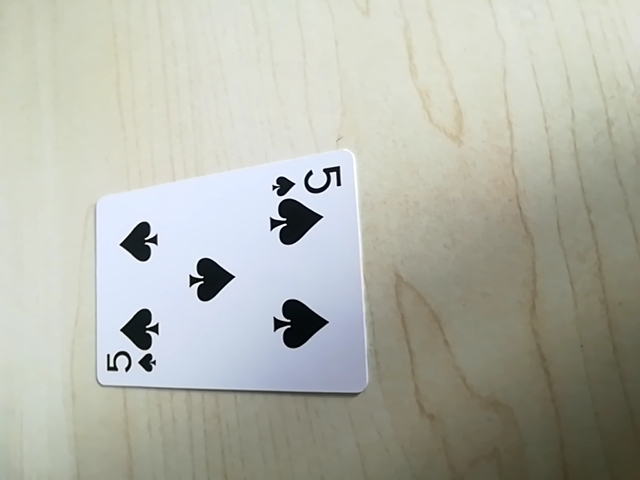ht 5: (269, 159, 348, 196), (101, 345, 162, 381)
